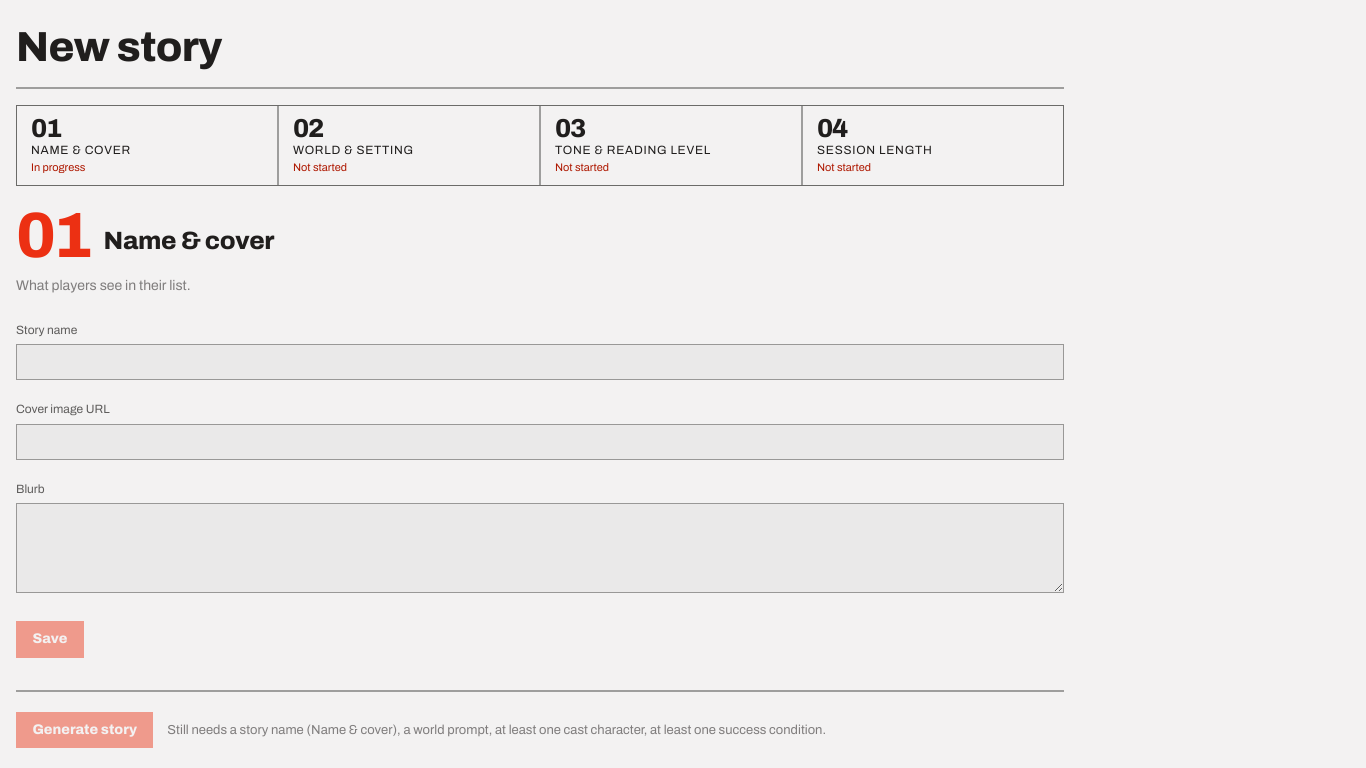
Test: Story wizard saves with a current token and confirms only real saves (#137) › clears a failed save's message as soon as the administrator edits again
Type "The Lighthouse" into the field labelled "Story name" at x=540, y=362, box [16,344,1064,380]
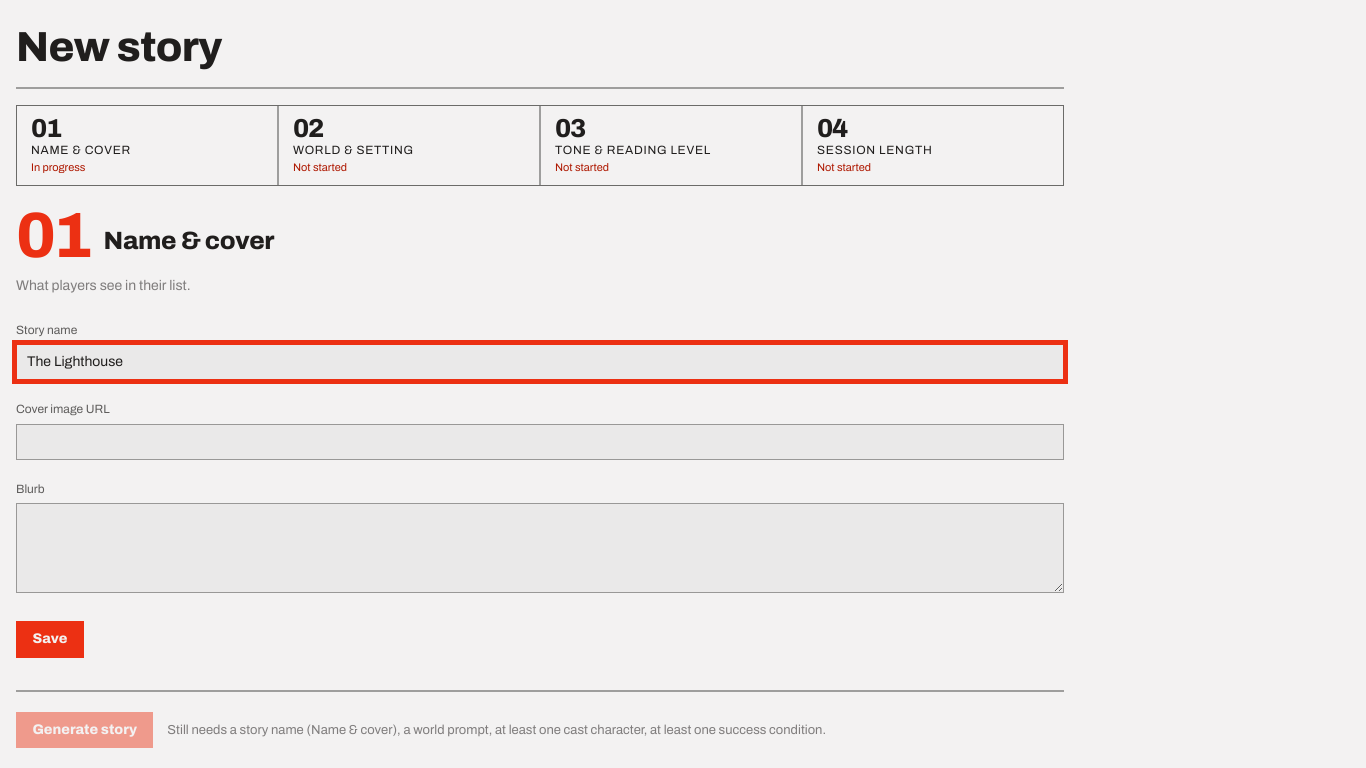
Click the button "Save" at x=50, y=639, box [16,621,84,658]
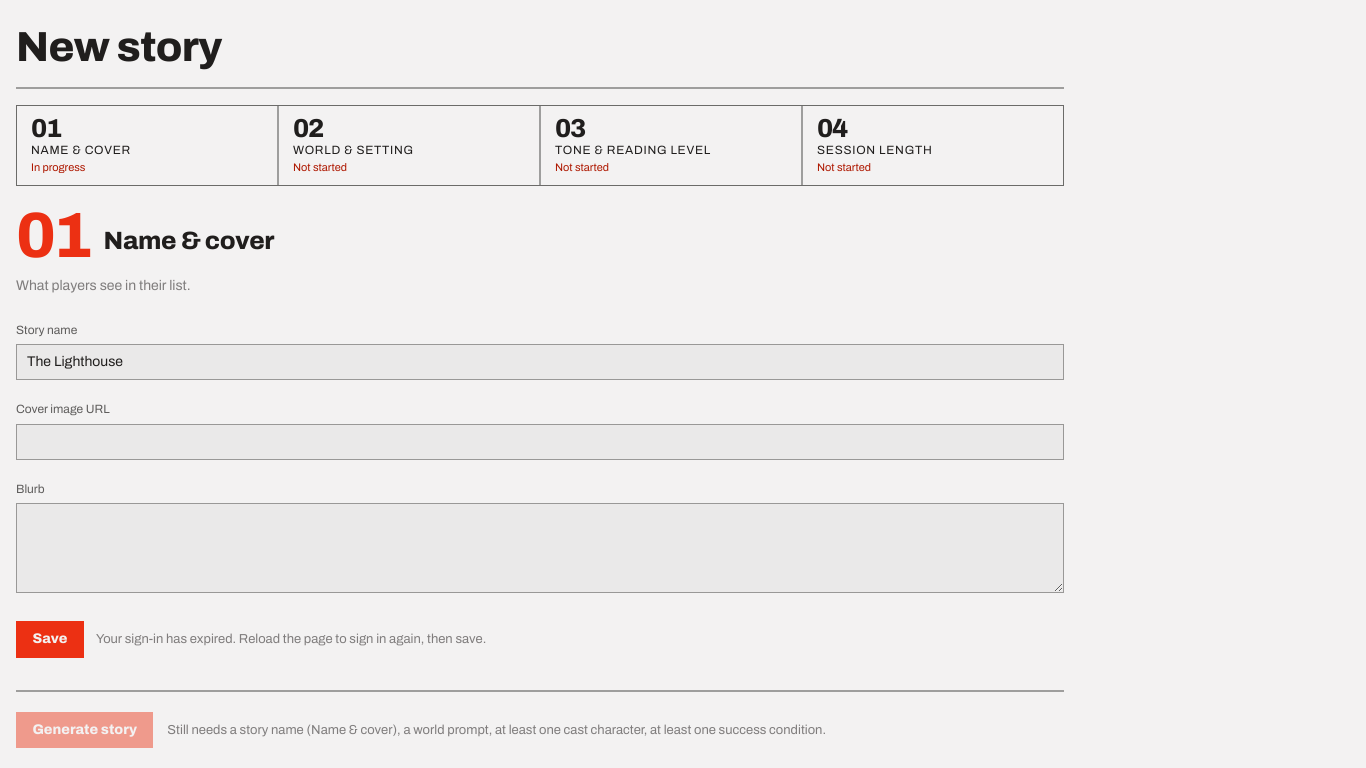
Expected: the message "Your sign-in has expired. Reload the page to sign in again, then save." is shown, [96,629,486,649]
Type "!" into the field labelled "Story name" at x=540, y=362, box [16,344,1064,380]
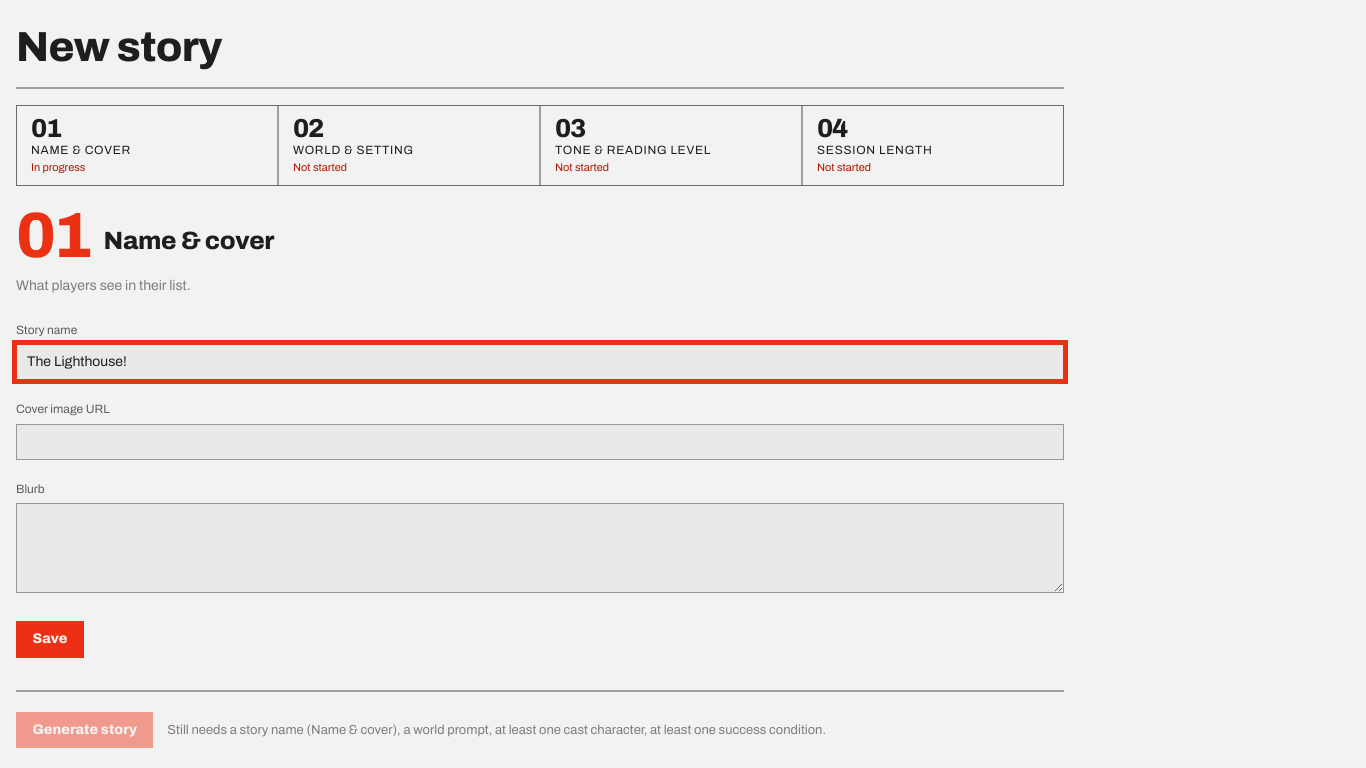
Expected: the message "Your sign-in has expired. Reload the page to sign in again, then save." is gone
